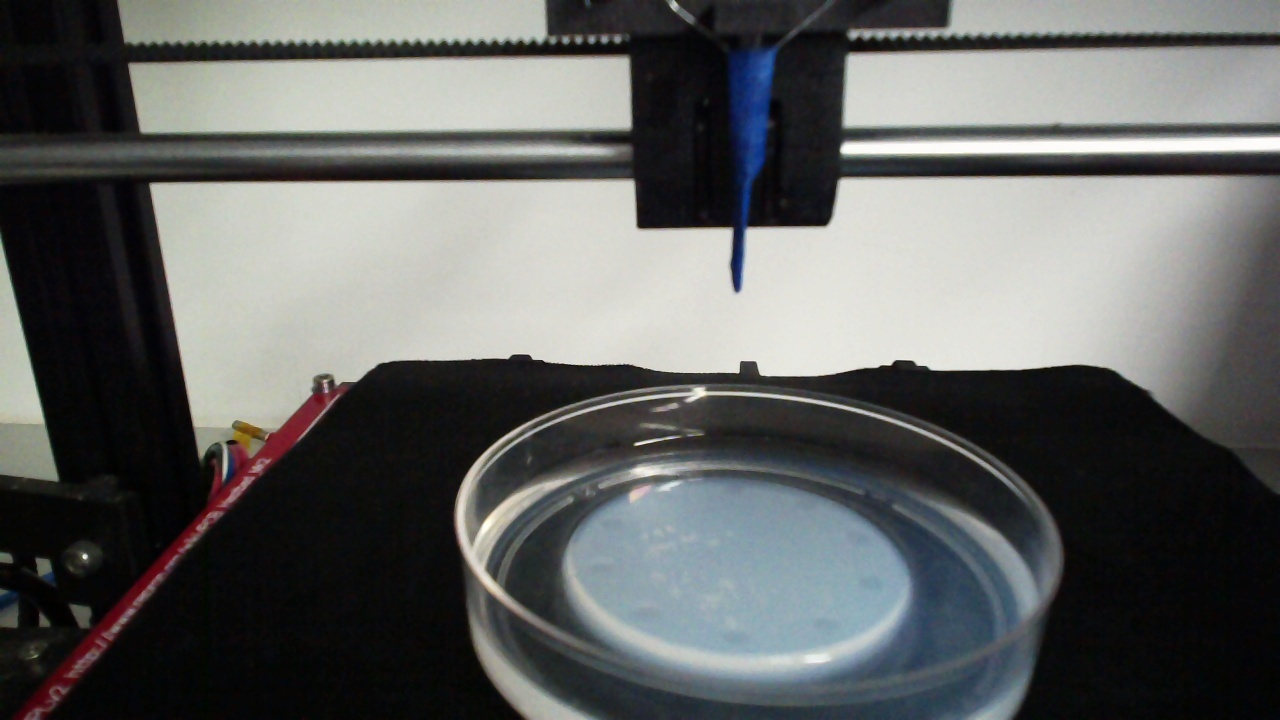groove: (854, 569, 885, 595), (845, 525, 876, 551), (718, 624, 750, 648), (627, 605, 659, 629), (594, 515, 630, 535), (582, 559, 619, 578), (717, 480, 750, 501), (811, 618, 841, 640), (792, 492, 821, 512)
needle: (730, 49, 778, 295)
